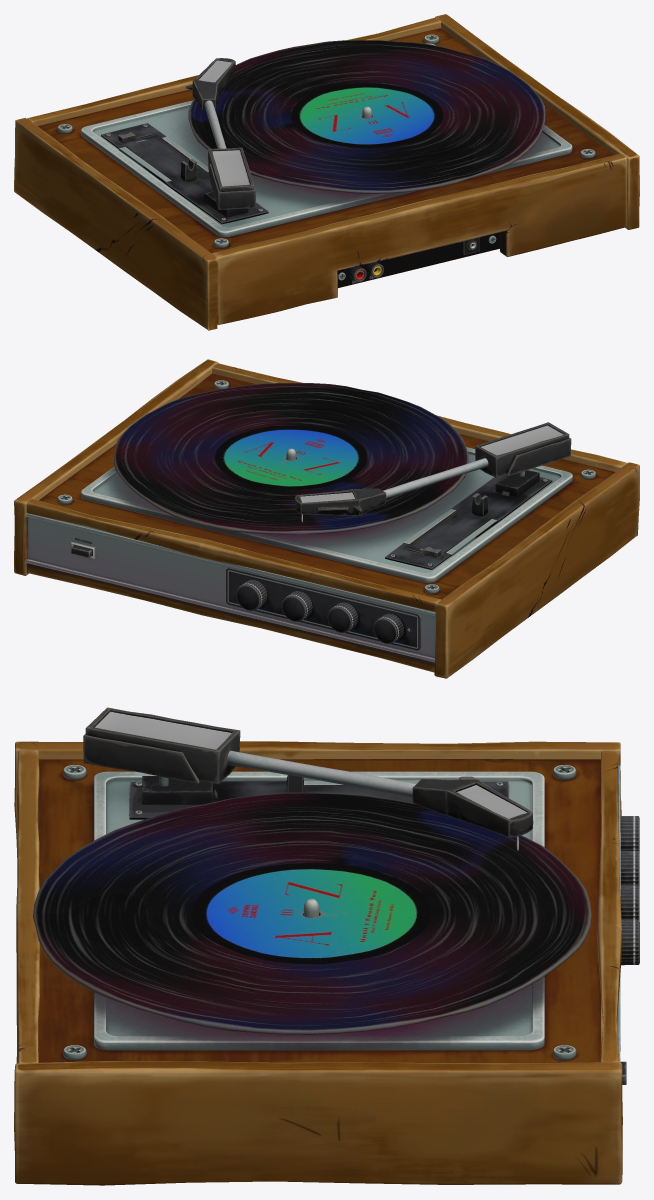
File: deck.glb
The picture shows the model from 3 angles, top to bottom: view 1: azimuth 30°, elevation 25°; view 2: azimuth 150°, elevation 25°; view 3: azimuth 270°, elevation 25°; orthographic projection. The views are drawn at different scales.
Parts seen in each view (by area): view 1: Cube.003_0; view 2: Cube.003_0; view 3: Cube.003_0.
Boxes of the visible parts, x1,y1,x2,y2 form: Cube.003_0: (14,14,639,330); Cube.003_0: (14,359,639,678); Cube.003_0: (14,707,639,1185).
Bounding box in the file's own units: 4.56 × 1.16 × 3.63.
15 materials, 14 textured.
